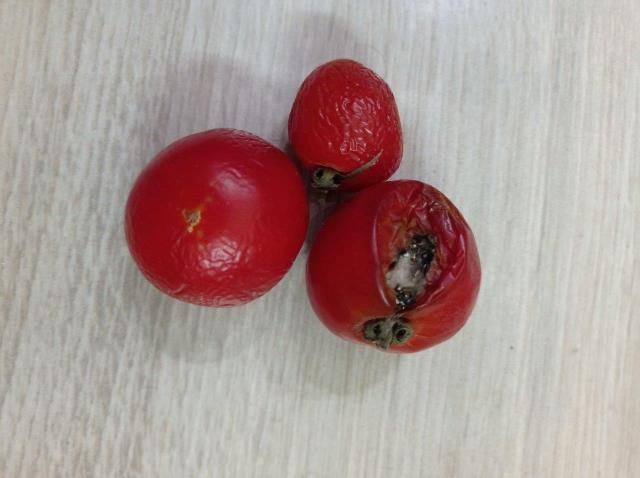defect: (119, 126, 313, 310), (300, 178, 487, 358), (280, 56, 408, 192)
